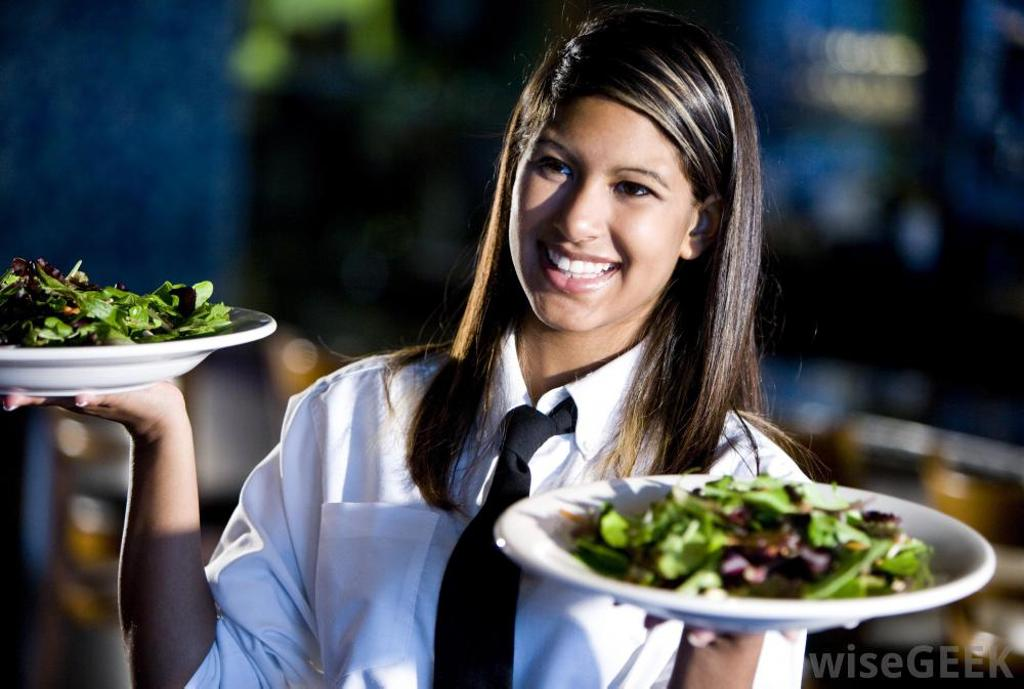face: (504, 88, 692, 336)
